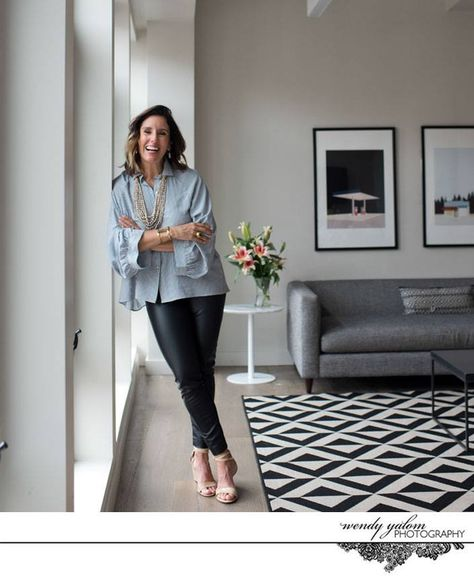person: (105, 102, 240, 505)
